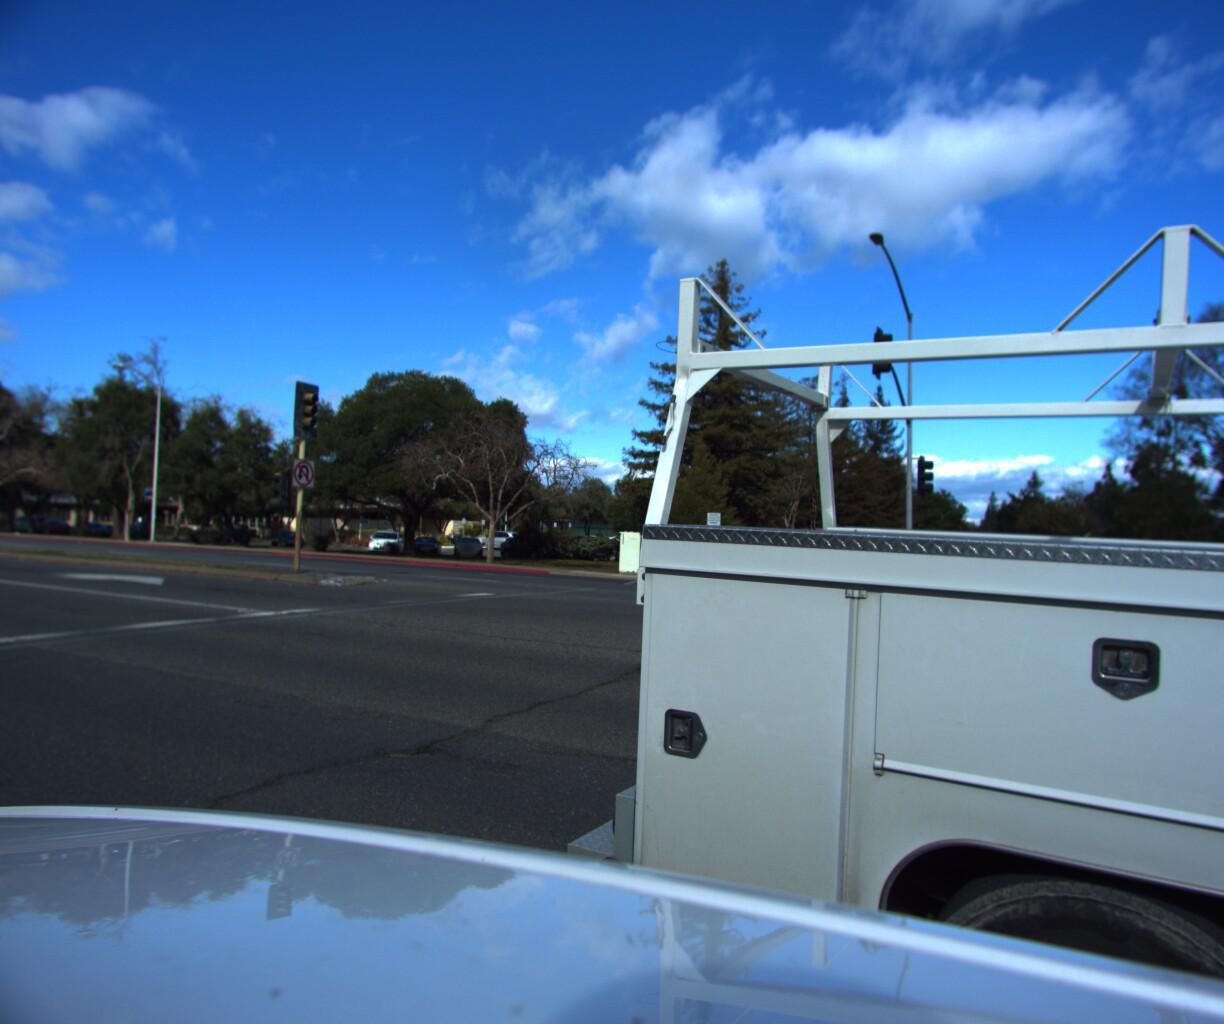car: (737, 522, 994, 626), (1127, 559, 1188, 600), (1026, 551, 1069, 584), (1077, 554, 1119, 583), (1050, 553, 1083, 577), (1222, 558, 1224, 586)
